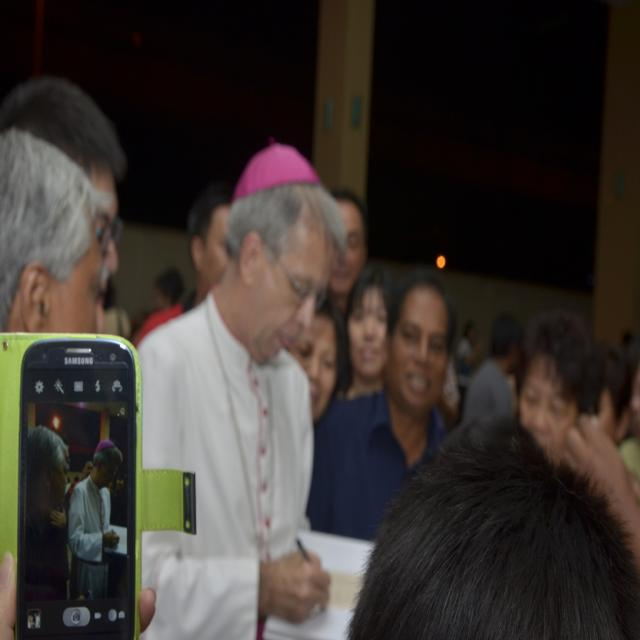Mobile-phone: (18, 326, 146, 620)
